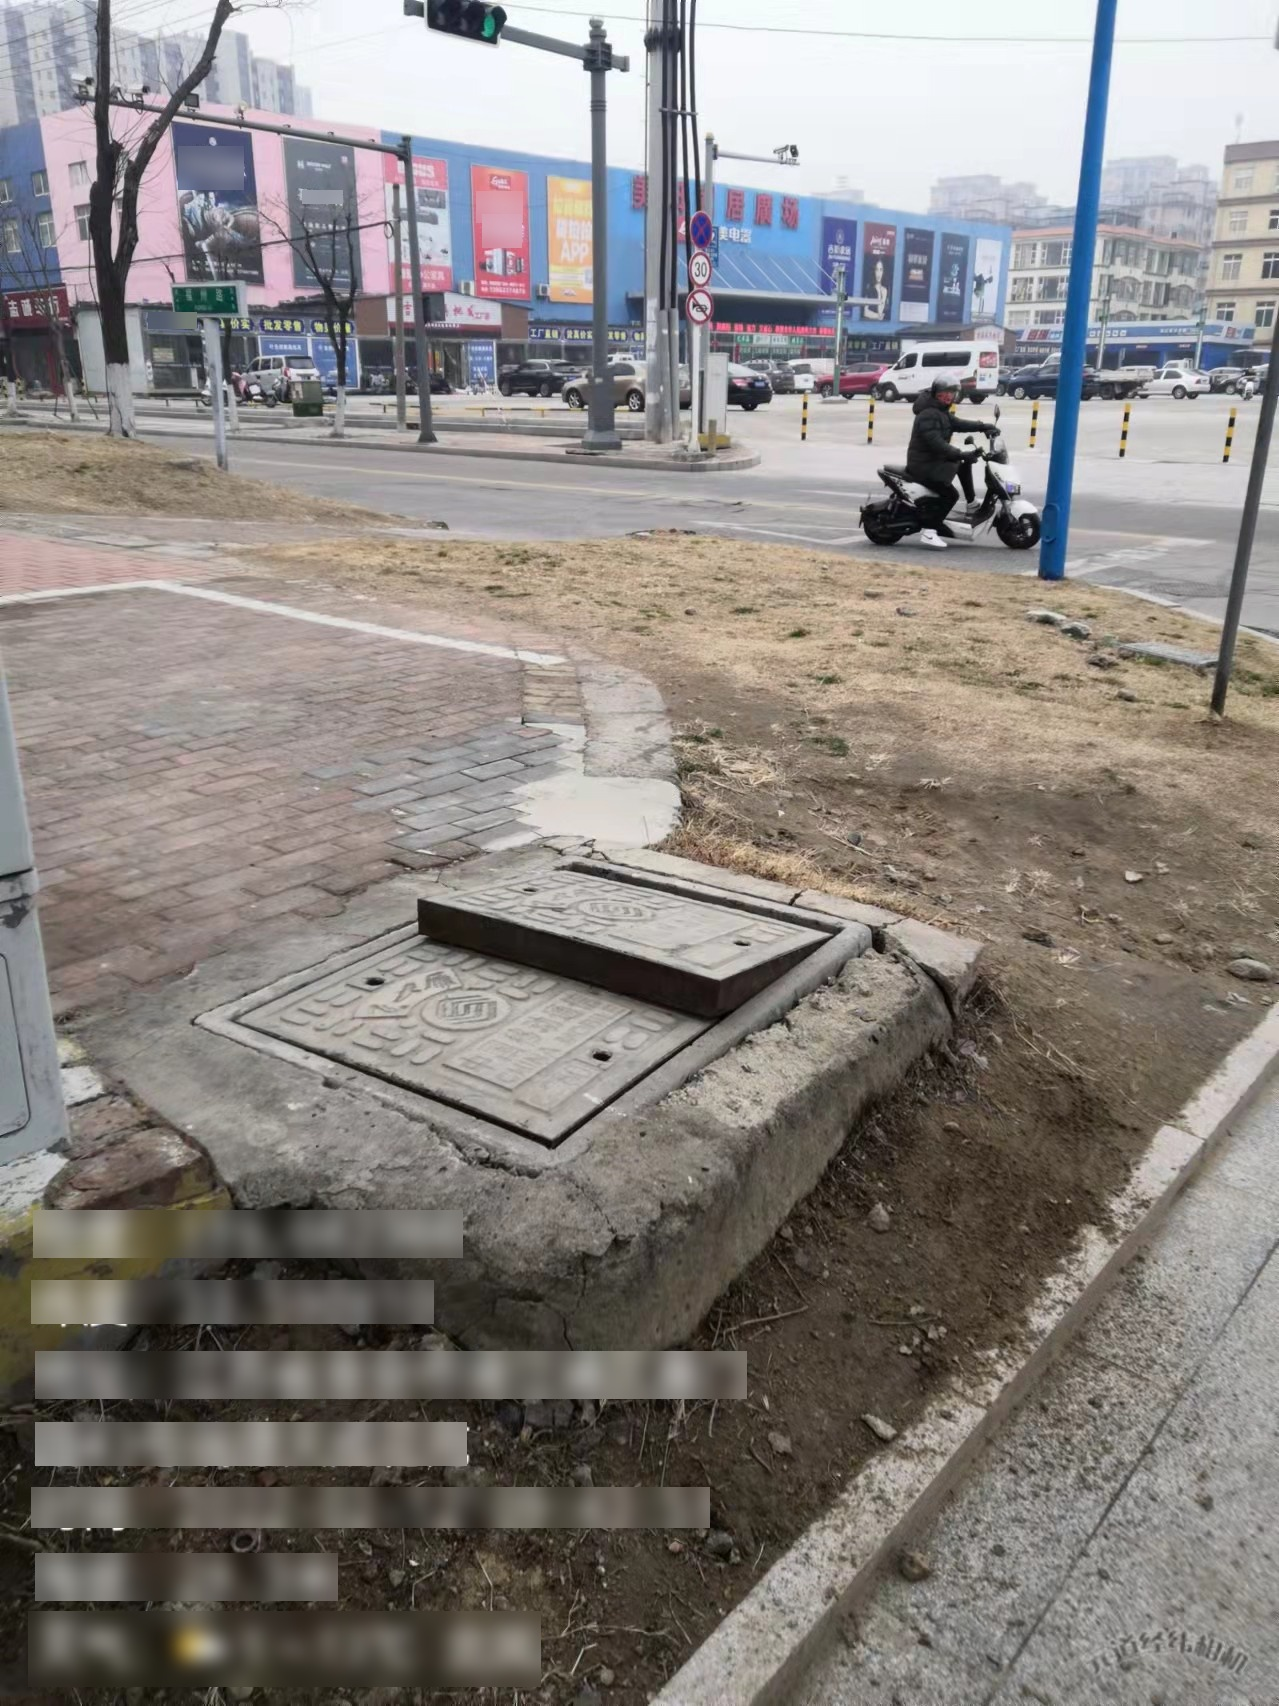well: (192, 858, 867, 1175)
